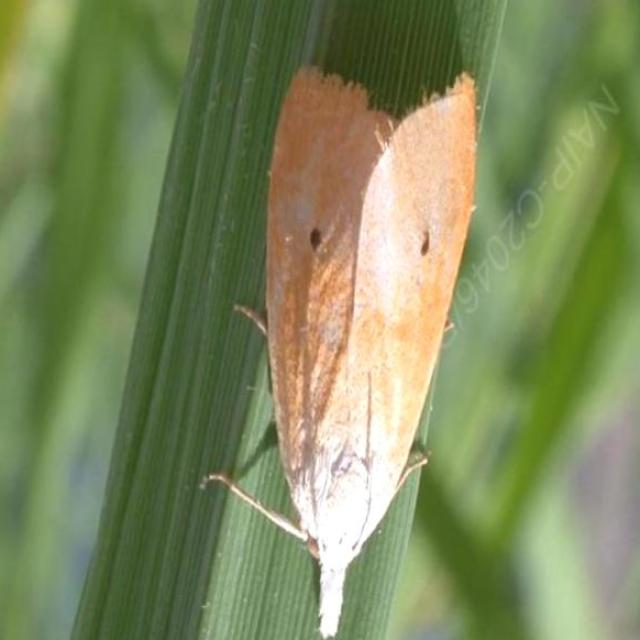stem borer: (201, 68, 477, 638)
